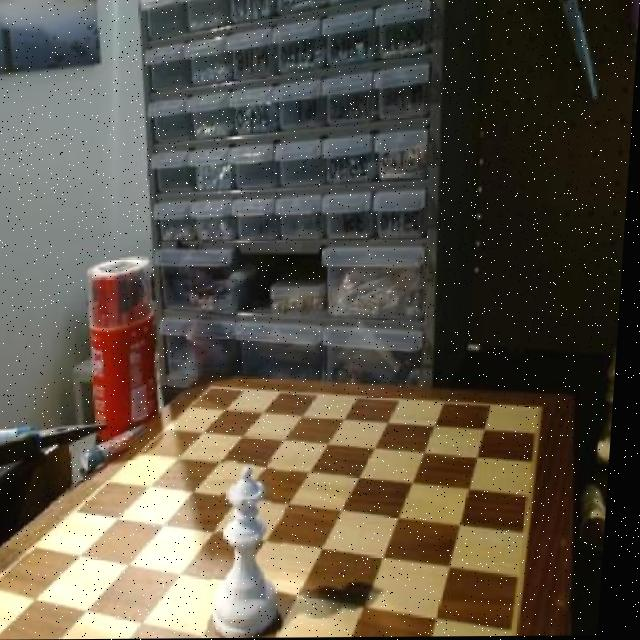white-pawn: (218, 458, 297, 639)
